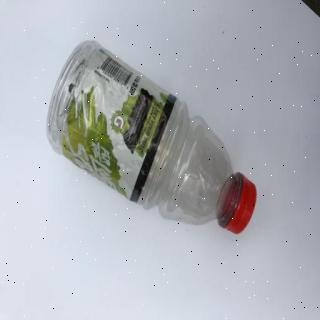Plastic-bottle: (45, 40, 260, 240)
